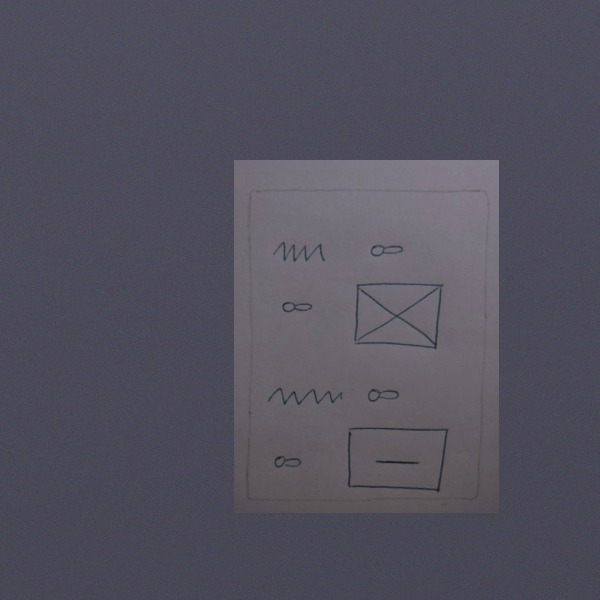image: (347, 277, 449, 359), (341, 423, 453, 495)
switch: (360, 385, 411, 408), (267, 449, 309, 475), (365, 239, 410, 261), (279, 296, 319, 318)
text: (263, 379, 351, 415), (268, 238, 338, 268)
